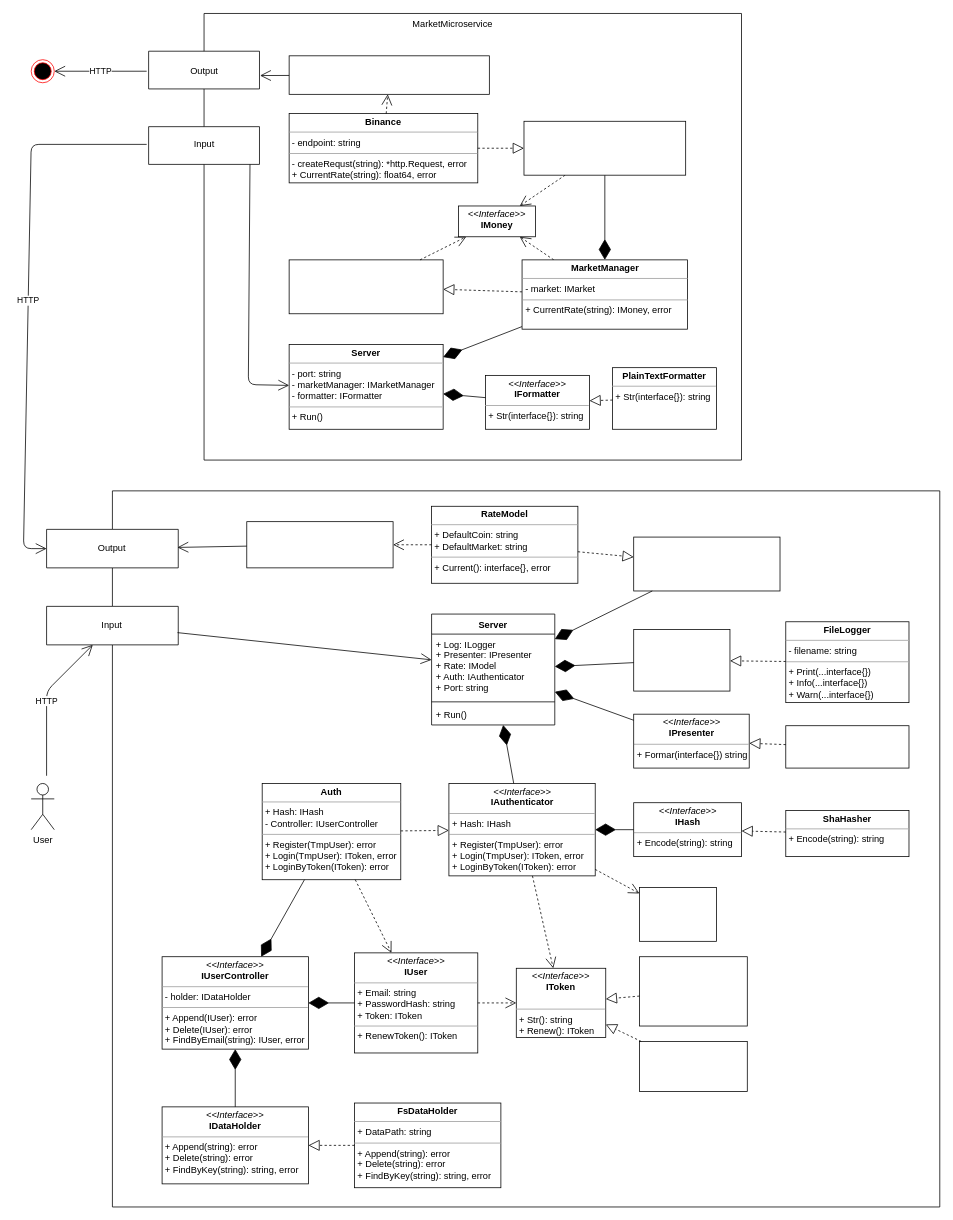
Some shapes in this 953 by 1220 pixel diagram are drawn without their labels. The shapes that lost their labels are listed below. From the top down, each one's centre as x and y in pixels, then its label:
(388,74): GeneralApiReader + JsonRequest(*http.Request, interface{}) error
(604,148): <<Interface>> IMarket + CurrentRate(string): IMoney, error
(365,286): <<Interface>> IMarketManager + CurrentRate(string): IMoney, error
(319,544): MarketAdapter + Request(): interface{}, error
(706,563): <<Interface>> IModel + CurrentRate(): interface{}, error
(681,660): <<Interface>> ILogger + Info(...interface{}) + Wark(...interface{})
(847,746): JsonPresenter + Fomar(interface{}): string
(677,914): TmpUser + Email: string + Pass: string
(693,991): StringToken + Token: string + Str(): string + Renew(): StringToken
(693,1066): JwtAdapter + Str(): string + Renew(): JwtAdapter
